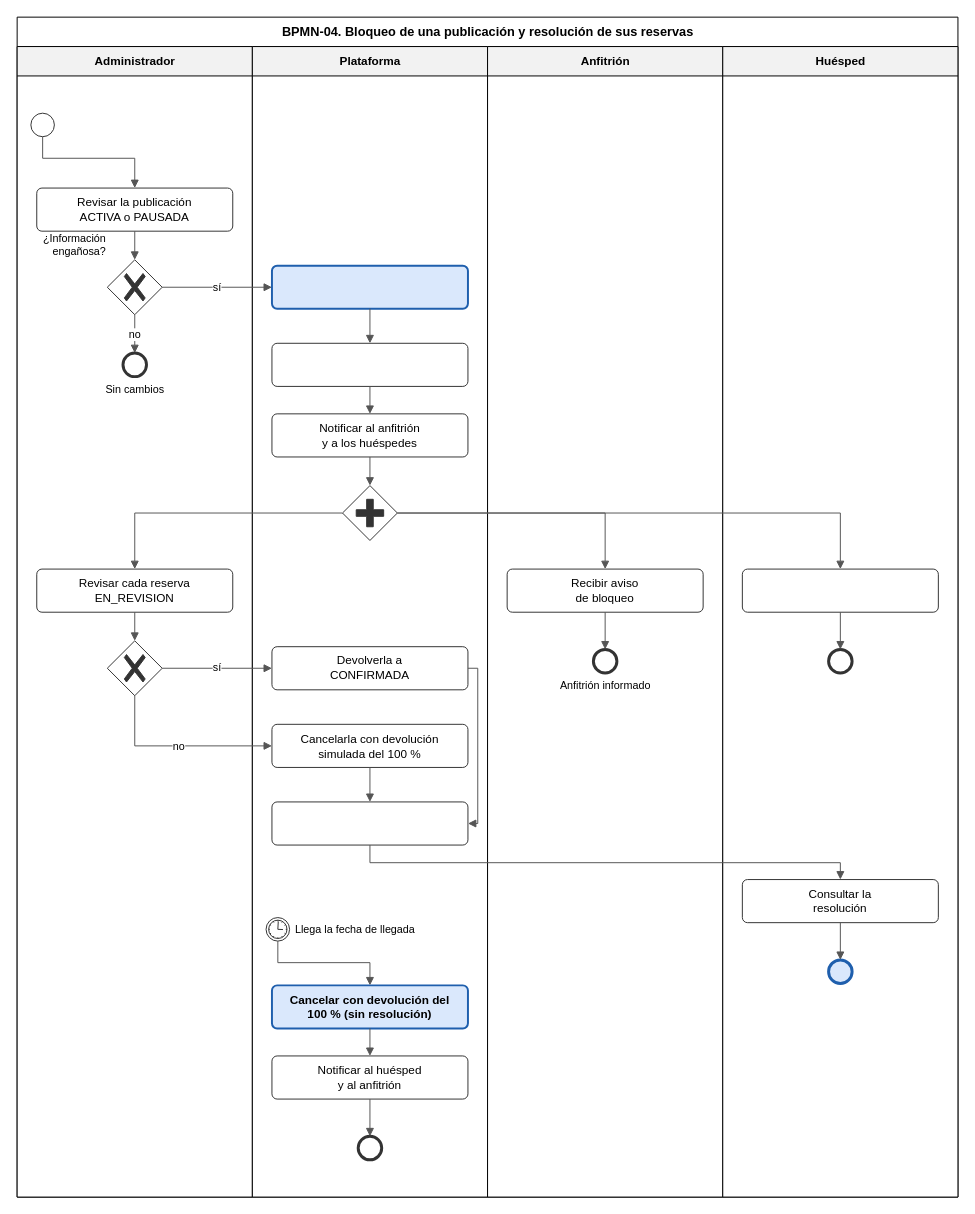
This 975x1214 diagram has some shape labels left out. The shapes that lost their labels are listed below. From the top down, each one's centre as x and y in pixels, then its label:
point (42, 124): Detecta información engañosa
point (369, 286): Bloquear y registrar el motivo (BLOQUEADA)
point (369, 364): Pasar reservas futuras a EN_REVISION
point (839, 590): Recibir aviso de reserva EN_REVISION
point (134, 668): ¿Mantener la reserva?
point (840, 660): Huésped informado
point (369, 823): Notificar la resolución al huésped
point (840, 971): Reserva resuelta
point (369, 1147): Cancelada sin resolución
